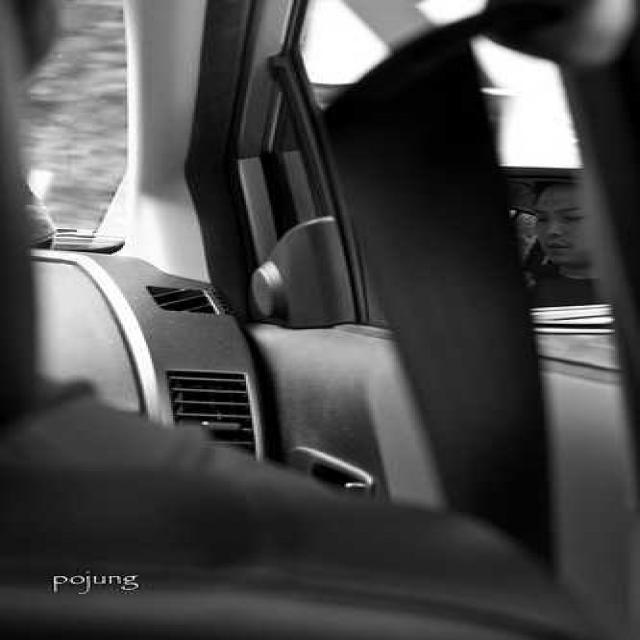seatbelt: (311, 44, 563, 508)
